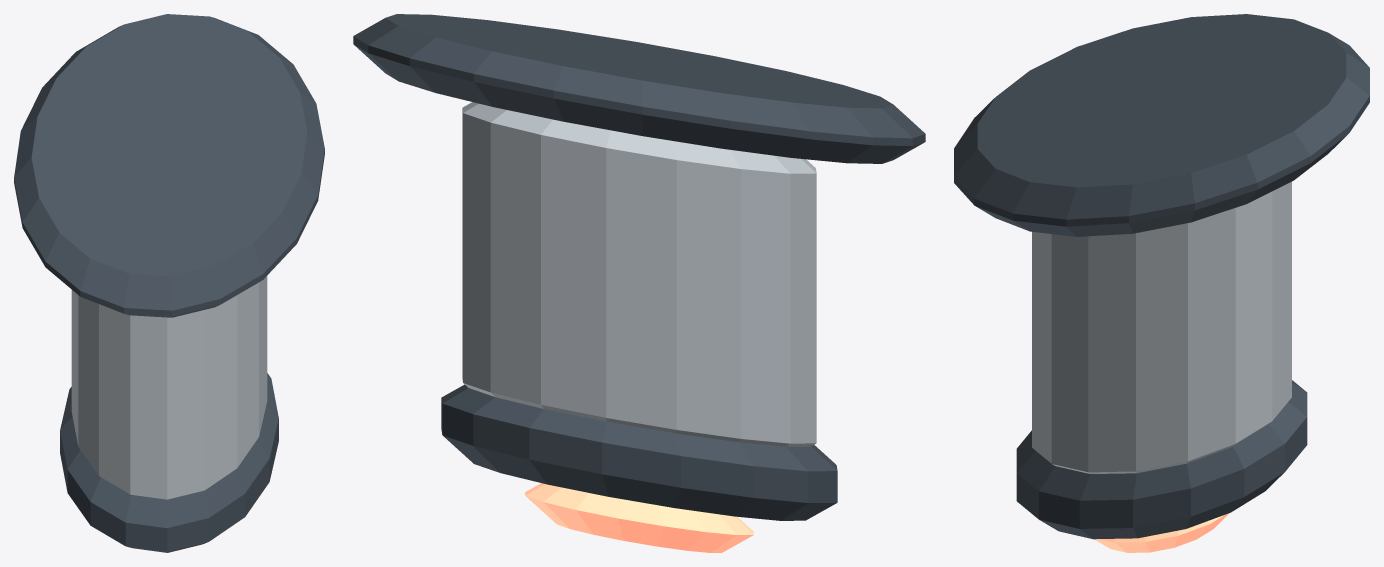
The model's file is Laser_Down.gltf.
3 views of the same model, side by side, from view 1: azimuth 30°, elevation 25°; view 2: azimuth 150°, elevation 25°; view 3: azimuth 270°, elevation 25° (orthographic). The views are drawn at different scales.
Visible parts, largest first — view 1: Laser_Down_baked; view 2: Laser_Down_baked; view 3: Laser_Down_baked.
Boxes of the visible parts, x1,y1,x2,y2 form: Laser_Down_baked: (14, 14, 324, 552); Laser_Down_baked: (353, 14, 925, 552); Laser_Down_baked: (954, 14, 1369, 552).
Size of the model in its own units: 0.5792 by 0.7258 by 0.5334.
